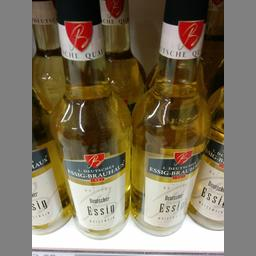vinegar: (49, 0, 137, 240), (134, 0, 208, 239)
